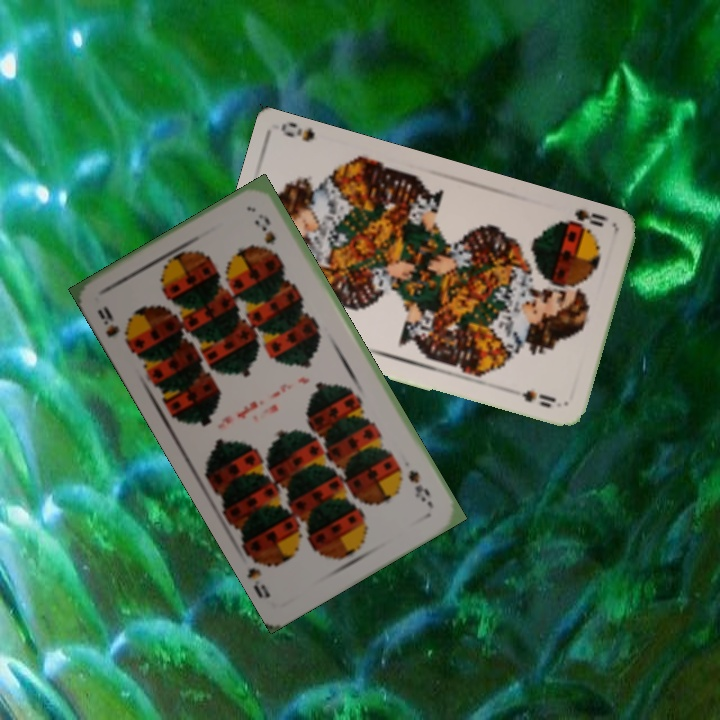S9: (93, 302, 133, 351), (404, 465, 433, 505)
SO: (554, 205, 611, 235)
